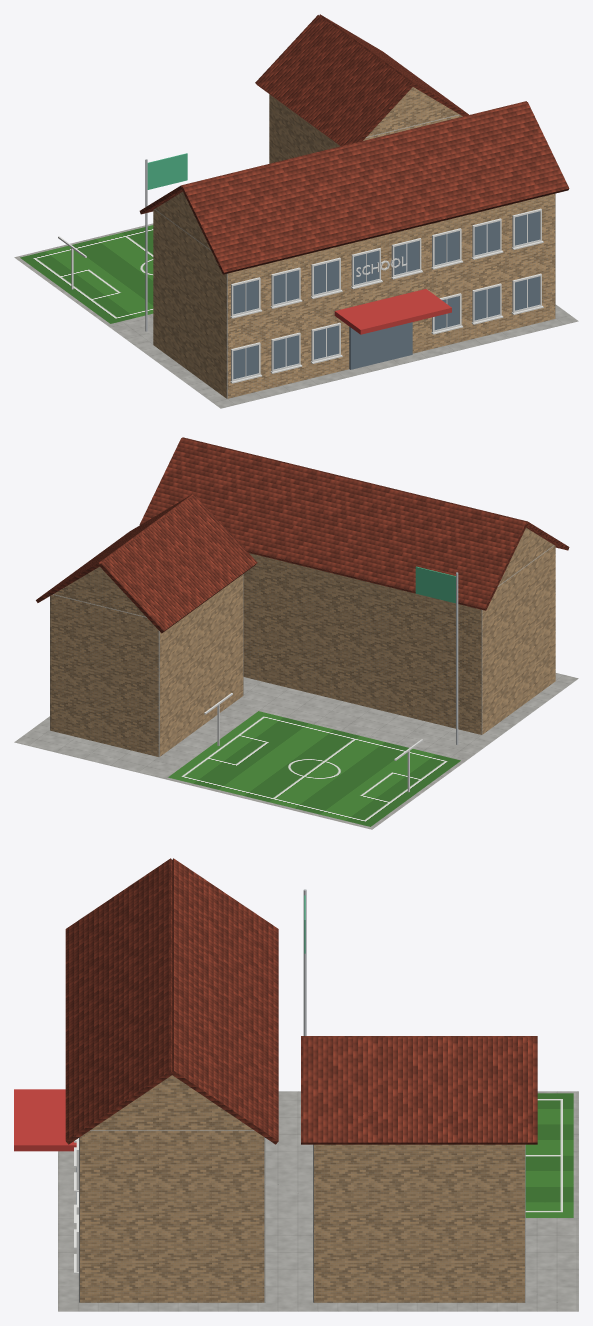
Rendered from school.gltf.
3 views of the same model, one above another, from view 1: azimuth 30°, elevation 25°; view 2: azimuth 150°, elevation 25°; view 3: azimuth 270°, elevation 25° (orthographic). The views are drawn at different scales.
Visible parts, largest first — view 1: school; view 2: school; view 3: school.
Part boxes in pixels (x1,y1,x2,y2): school: (14, 14, 578, 408); school: (14, 437, 578, 829); school: (14, 858, 578, 1311).
Bounding box in the file's own units: 3.92 × 1.97 × 4.25.
Materials: 10 (4 with a texture image).
